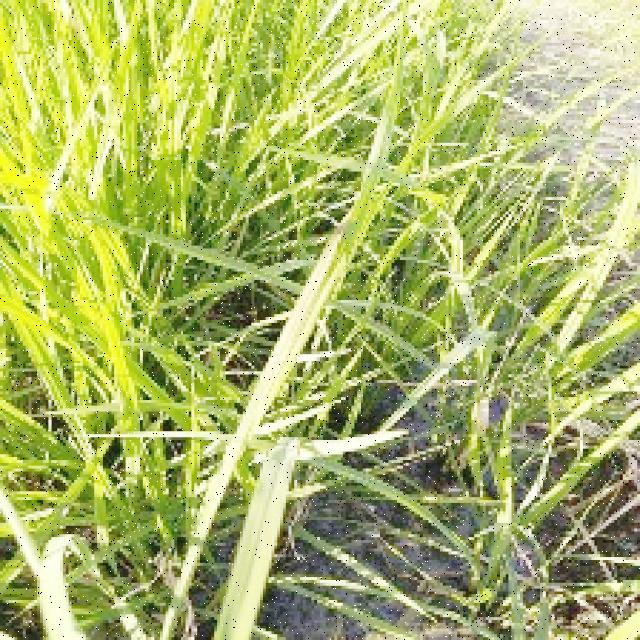health: (0, 0, 329, 529)
